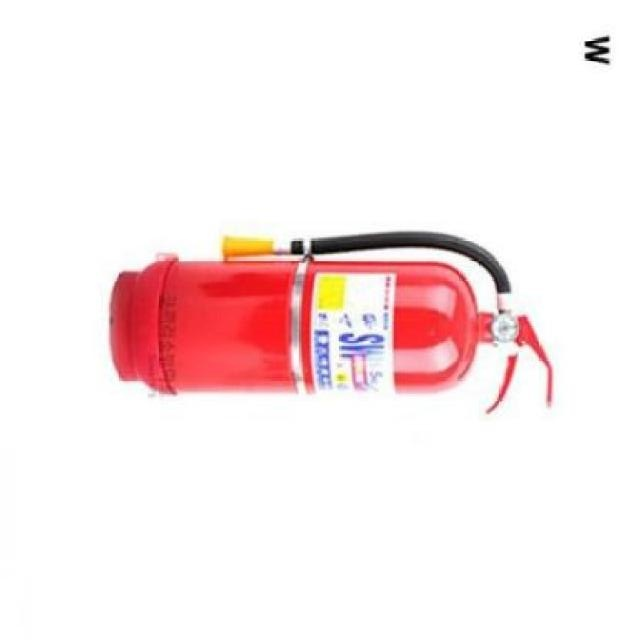fire extinguisher: (109, 229, 553, 414)
